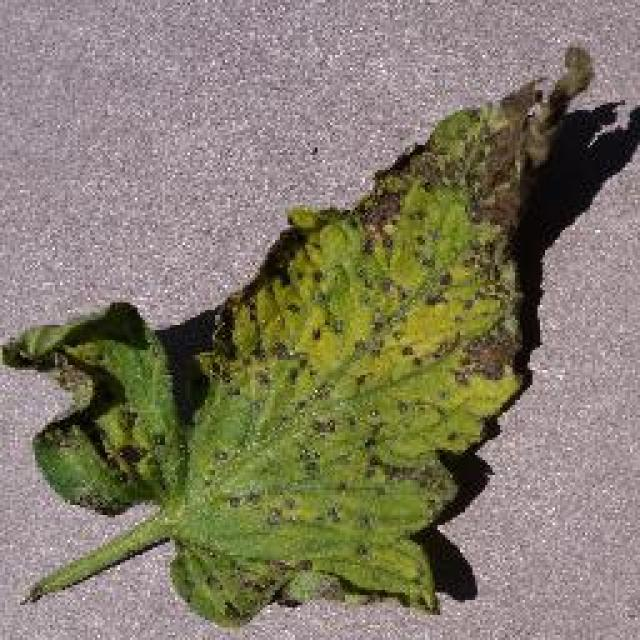Tomato___Septoria_leaf_spot: (0, 48, 590, 622)
